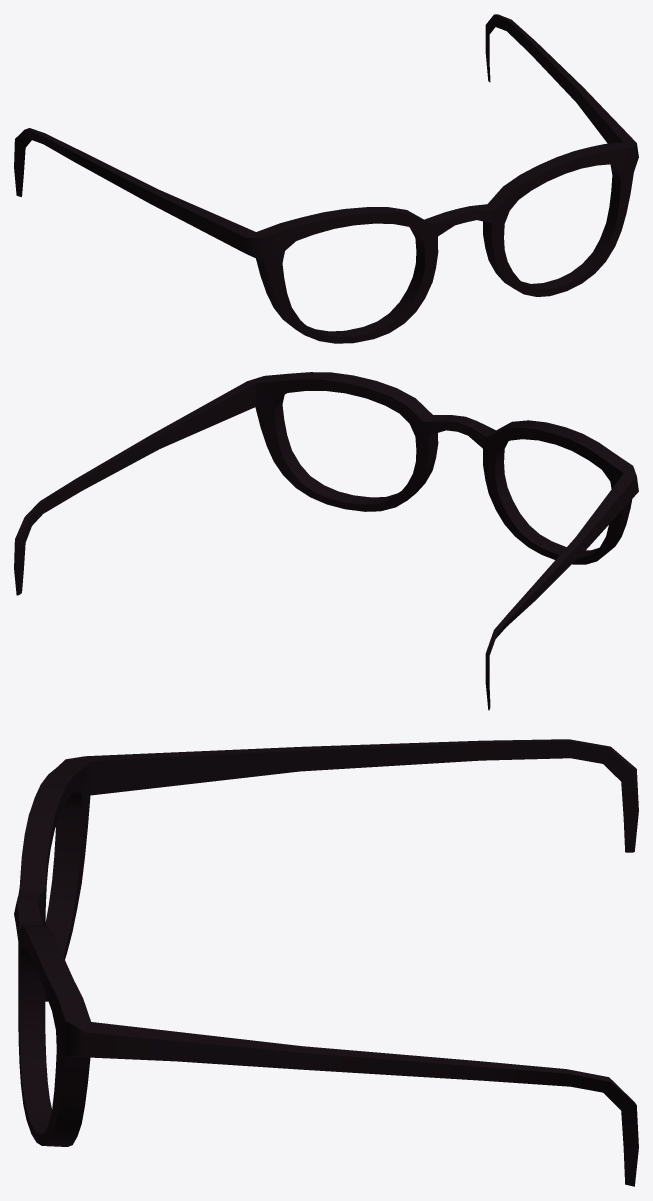
The model's file is glasses-0.glb.
The picture shows the model from 3 angles, top to bottom: view 1: azimuth 30°, elevation 25°; view 2: azimuth 150°, elevation 25°; view 3: azimuth 270°, elevation 25°; orthographic projection. The views are drawn at different scales.
Parts seen in each view (by area): view 1: Wolf3D_Glasses; view 2: Wolf3D_Glasses; view 3: Wolf3D_Glasses.
Part boxes in pixels (x1,y1,x2,y2): Wolf3D_Glasses: (14,14,638,343); Wolf3D_Glasses: (14,372,638,710); Wolf3D_Glasses: (14,739,638,1186).
Size of the model in its own units: 0.1632 by 0.0421 by 0.128.
Materials: 1 (1 with a texture image).
